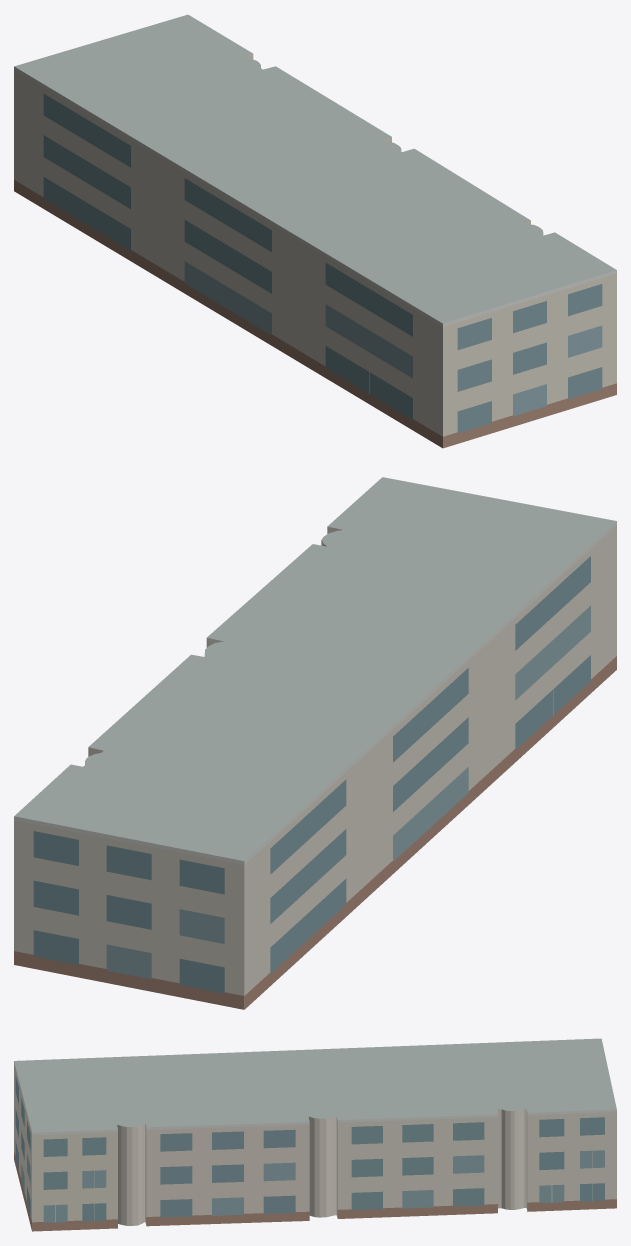
File: survey-upis-32873738.glb
3 renders of one model, top to bottom at view 1: azimuth 30°, elevation 25°; view 2: azimuth 150°, elevation 25°; view 3: azimuth 270°, elevation 25°, orthographic. The views are drawn at different scales.
Parts seen in each view (by area): view 1: survey-upis-32873738.tmp; view 2: survey-upis-32873738.tmp; view 3: survey-upis-32873738.tmp.
Part boxes in pixels (x1=…): survey-upis-32873738.tmp: x1=14, y1=14, x2=616, y2=448; survey-upis-32873738.tmp: x1=14, y1=477, x2=616, y2=1009; survey-upis-32873738.tmp: x1=14, y1=1038, x2=616, y2=1231.
Size of the model in its own units: 18.69 by 9.15 by 50.57.
